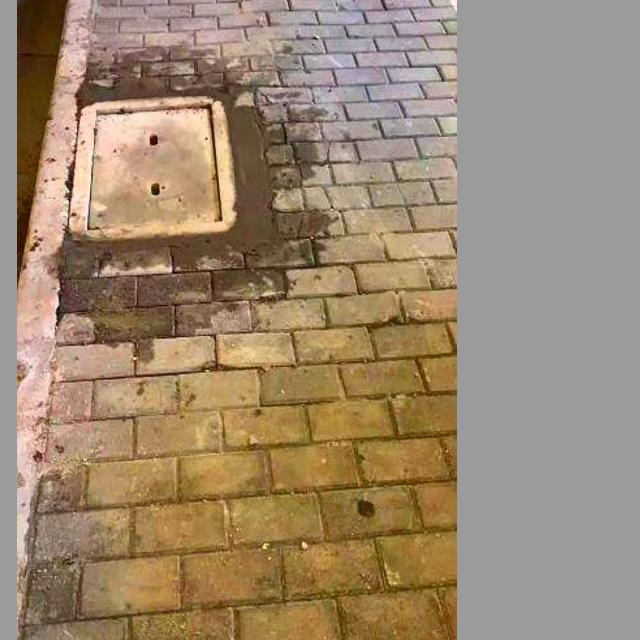good: (69, 77, 292, 297)
